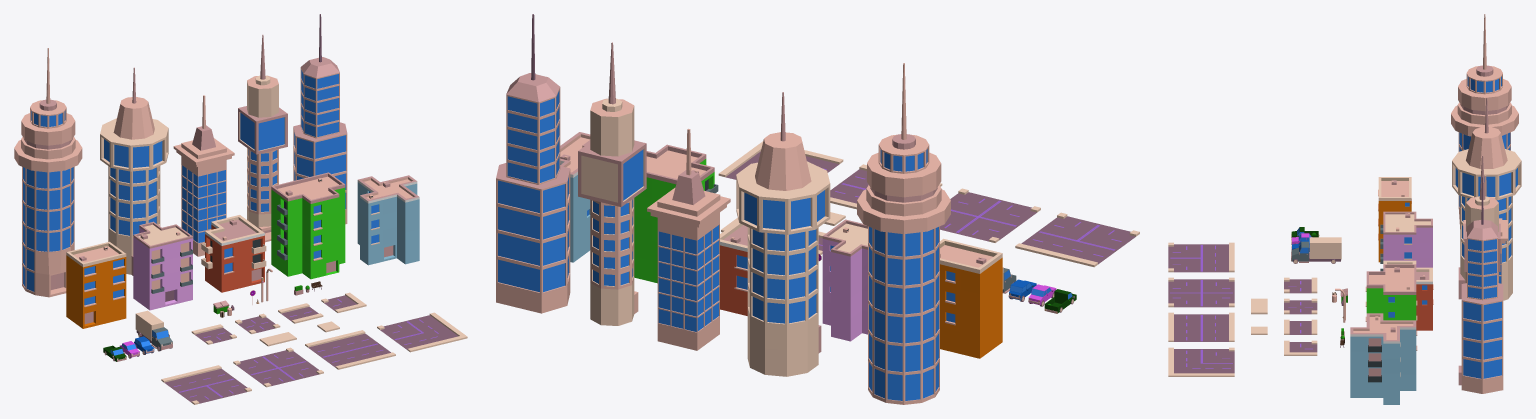
Rendered from Simple_Low_Poly_City_Pack.glb.
3 views of the same model, side by side, from view 1: azimuth 30°, elevation 25°; view 2: azimuth 150°, elevation 25°; view 3: azimuth 270°, elevation 25° (orthographic). The views are drawn at different scales.
Parts seen in each view (by area): view 1: Skyscraper1_BaseMaterial_0, Skyscraper3_BaseMaterial_0, Apartment4_BaseMaterial_0, Skyscraper5_BaseMaterial_0, Skyscraper4_BaseMaterial_0, Apartment5_BaseMaterial_0, Skyscraper2_BaseMaterial_0, Apartment2_BaseMaterial_0, Apartment1_BaseMaterial_0, Apartment3_BaseMaterial_0, StreetILarge_BaseMaterial_0, StreetTLarge_BaseMaterial_0 (+7 smaller); view 2: Skyscraper1_BaseMaterial_0, Skyscraper3_BaseMaterial_0, Skyscraper5_BaseMaterial_0, Skyscraper4_BaseMaterial_0, Skyscraper2_BaseMaterial_0, Apartment1_BaseMaterial_0, Apartment2_BaseMaterial_0, Apartment4_BaseMaterial_0, StreetTLarge_BaseMaterial_0, Street+Large_BaseMaterial_0, Apartment3_BaseMaterial_0, Apartment5_BaseMaterial_0 (+2 smaller); view 3: Skyscraper5_BaseMaterial_0, Skyscraper3_BaseMaterial_0, Apartment5_BaseMaterial_0, Skyscraper1_BaseMaterial_0, Apartment4_BaseMaterial_0, Apartment2_BaseMaterial_0, StreetTLarge_BaseMaterial_0, Street+Large_BaseMaterial_0, StreetILarge_BaseMaterial_0, StreetLLarge_BaseMaterial_0, Apartment1_BaseMaterial_0, Apartment3_BaseMaterial_0 (+7 smaller).
Part boxes in pixels (x1,y1,x2,y2): Skyscraper1_BaseMaterial_0: (14,48,82,297); Skyscraper3_BaseMaterial_0: (100,67,168,275); Apartment4_BaseMaterial_0: (271,172,345,279); Skyscraper5_BaseMaterial_0: (293,14,347,224); Skyscraper4_BaseMaterial_0: (238,34,287,242); Apartment5_BaseMaterial_0: (357,175,419,265); Skyscraper2_BaseMaterial_0: (173,95,234,256); Apartment2_BaseMaterial_0: (133,221,192,310); Apartment1_BaseMaterial_0: (66,241,126,328); Apartment3_BaseMaterial_0: (201,215,266,292); StreetILarge_BaseMaterial_0: (305,330,395,369); StreetTLarge_BaseMaterial_0: (161,365,251,404); Skyscraper1_BaseMaterial_0: (857,63,950,404); Skyscraper3_BaseMaterial_0: (736,92,830,376); Skyscraper5_BaseMaterial_0: (496,14,570,313); Skyscraper4_BaseMaterial_0: (578,42,646,325); Skyscraper2_BaseMaterial_0: (647,128,730,350); Apartment1_BaseMaterial_0: (940,238,1002,358); Apartment2_BaseMaterial_0: (822,219,867,341); Apartment4_BaseMaterial_0: (634,144,718,283); StreetTLarge_BaseMaterial_0: (1015,212,1139,267); Street+Large_BaseMaterial_0: (940,188,1040,242); Apartment3_BaseMaterial_0: (720,221,747,315); Apartment5_BaseMaterial_0: (560,132,590,262); Skyscraper5_BaseMaterial_0: (1458,176,1503,393); Skyscraper3_BaseMaterial_0: (1452,97,1521,300); Apartment5_BaseMaterial_0: (1350,313,1416,404); Skyscraper1_BaseMaterial_0: (1451,14,1518,228); Apartment4_BaseMaterial_0: (1365,264,1417,350); Apartment2_BaseMaterial_0: (1380,211,1432,271); StreetTLarge_BaseMaterial_0: (1168,242,1234,272); Street+Large_BaseMaterial_0: (1168,277,1234,307); StreetILarge_BaseMaterial_0: (1168,312,1234,341); StreetLLarge_BaseMaterial_0: (1168,347,1234,376); Apartment1_BaseMaterial_0: (1378,177,1411,262); Apartment3_BaseMaterial_0: (1383,260,1433,330).
Bounding box in the file's own units: 24.2 × 15.78 × 21.36.
1 material, 1 textured.
